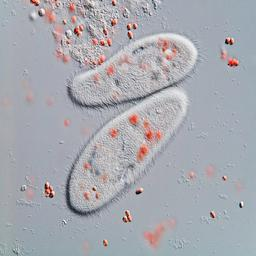Paramecium: (67, 88, 188, 213), (68, 32, 199, 106)
